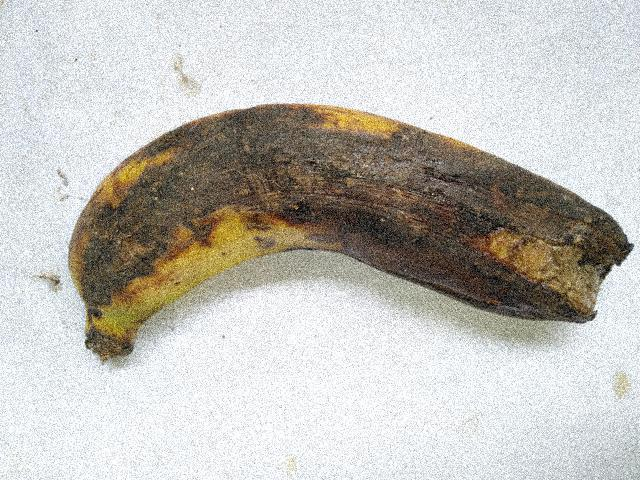rotten: (54, 87, 639, 365)
